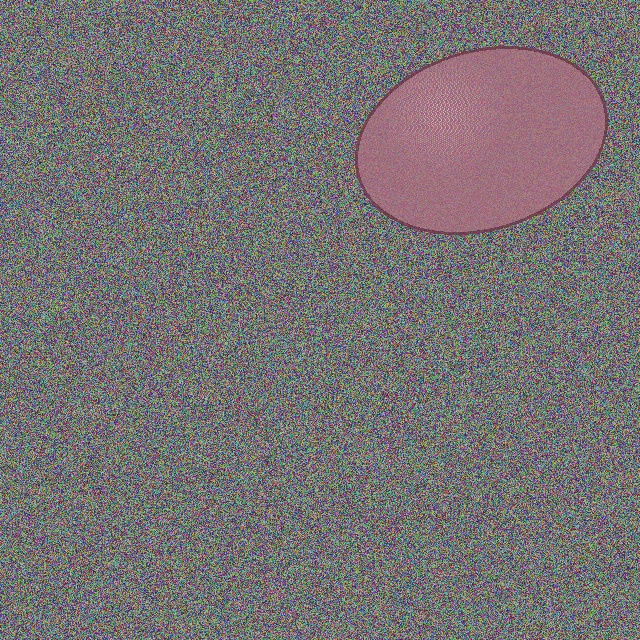lens: (356, 48, 606, 232)
